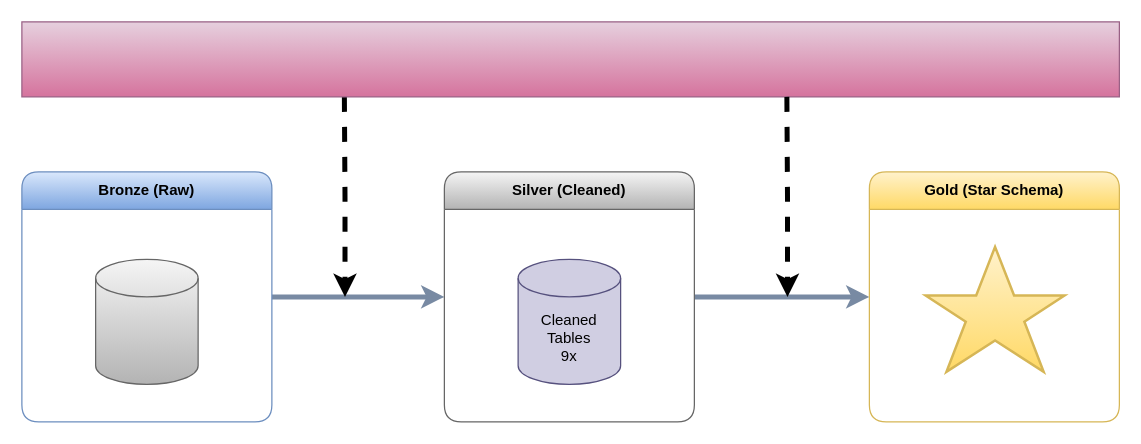
Some shapes in this 1141 by 444 pixel diagram are drawn without their labels. The shapes that lost their labels are listed below. From the top down, each one's centre as x and y in pixels, then its label:
(x=570, y=59): Metadata Config (JSON/Table)
(x=146, y=321): Raw Tables 9x
